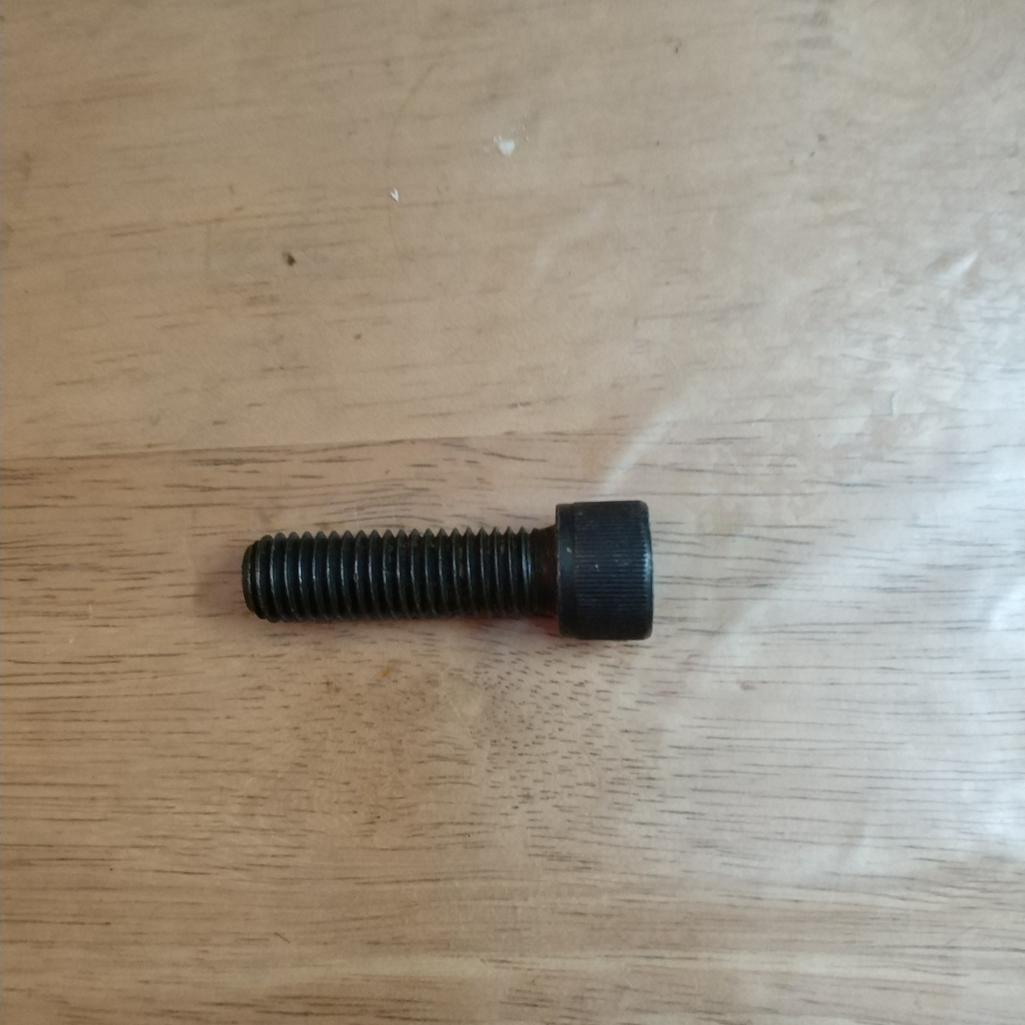screwtype1black: (238, 492, 670, 644)
